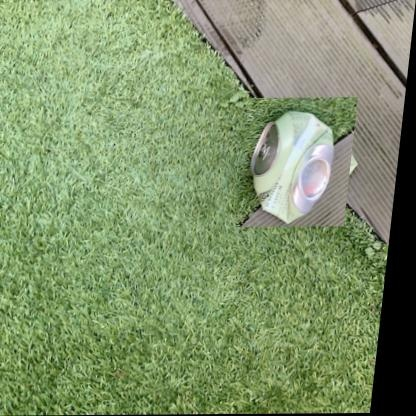trash: (251, 111, 333, 222)
